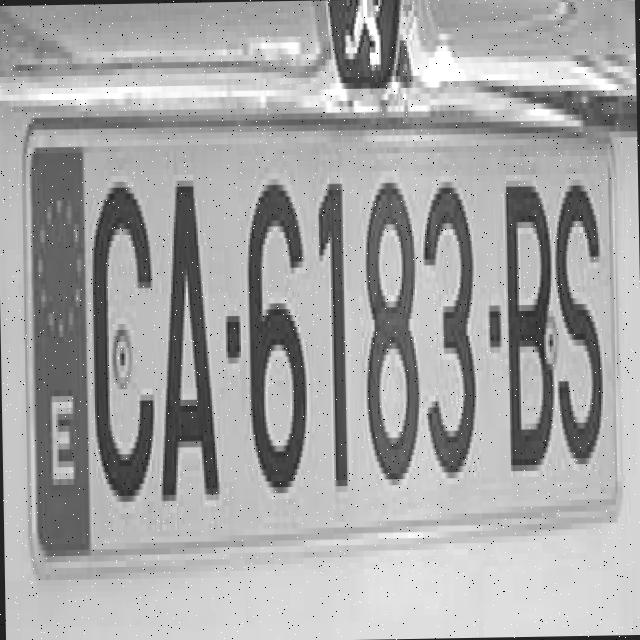EU: (23, 111, 610, 544)
Espagne: (26, 140, 90, 545)
